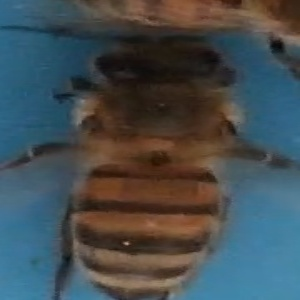bee: (15, 33, 268, 300), (68, 1, 298, 27)
